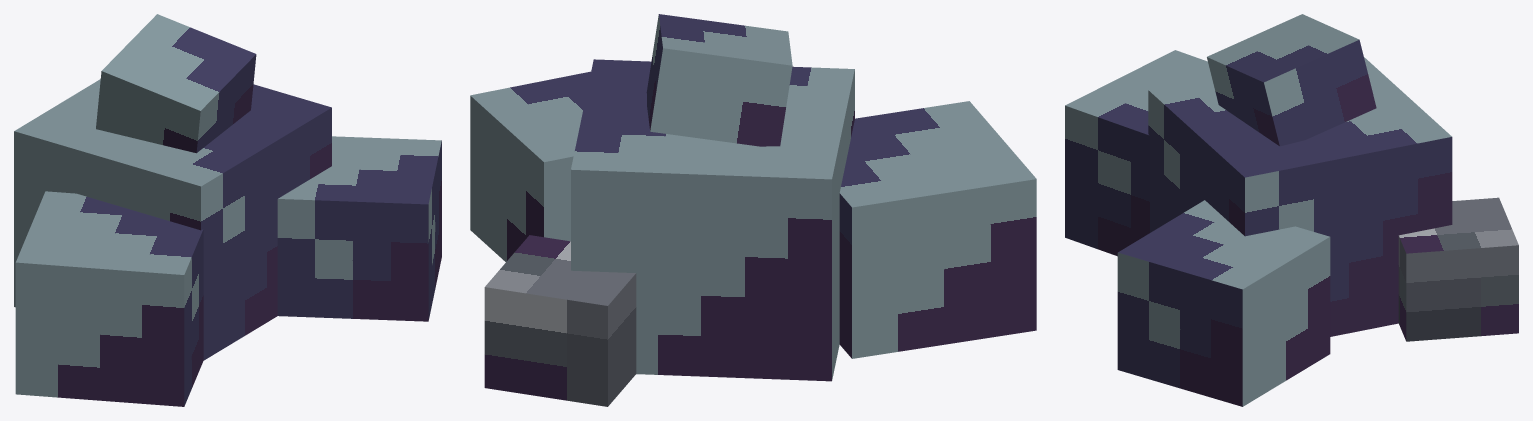
File: obsidian_ore.glb
3 views of the same model, side by side, from view 1: azimuth 30°, elevation 25°; view 2: azimuth 150°, elevation 25°; view 3: azimuth 270°, elevation 25° (orthographic). The views are drawn at different scales.
Visible parts, largest first — view 1: chunk_1, chunk_3, chunk_2, chunk_top; view 2: chunk_1, chunk_3, chunk_4, chunk_2, chunk_top; view 3: chunk_1, chunk_2, chunk_3, chunk_top, chunk_4.
Boxes of the visible parts, <box> form: chunk_1: <box>14,79,331,360</box>; chunk_3: <box>15,191,203,406</box>; chunk_2: <box>277,136,441,321</box>; chunk_top: <box>96,14,256,153</box>; chunk_1: <box>571,59,854,381</box>; chunk_3: <box>839,101,1036,358</box>; chunk_4: <box>484,235,636,406</box>; chunk_2: <box>470,71,590,261</box>; chunk_top: <box>646,14,792,146</box>; chunk_1: <box>1148,57,1452,336</box>; chunk_2: <box>1117,200,1330,406</box>; chunk_3: <box>1065,50,1211,256</box>; chunk_top: <box>1207,14,1376,146</box>; chunk_4: <box>1398,197,1518,341</box>.
Size of the model in its own units: 0.4361 by 0.2322 by 0.3721.
Materials: 1 (1 with a texture image).
